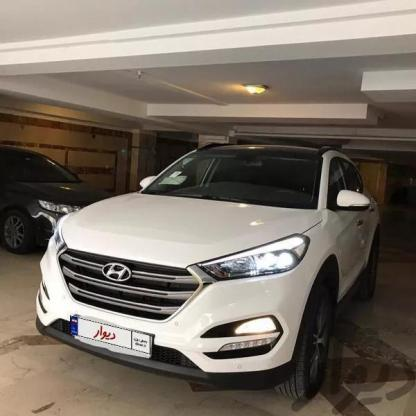Car: (33, 123, 381, 394), (0, 129, 113, 262)
